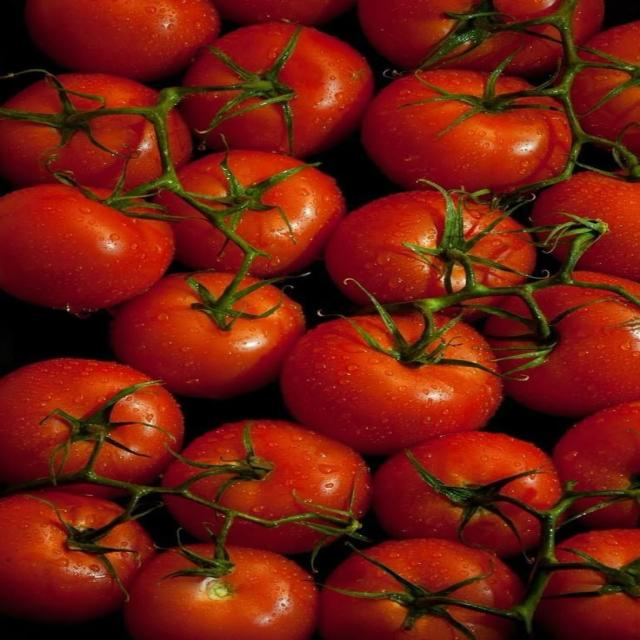tomato: (280, 315, 502, 455), (162, 420, 371, 554), (180, 22, 373, 157), (361, 69, 571, 193), (111, 271, 305, 398), (325, 190, 536, 305), (155, 150, 346, 277), (374, 431, 561, 557), (0, 358, 184, 485), (483, 271, 639, 417), (0, 183, 174, 313), (0, 490, 155, 624), (319, 538, 523, 639), (124, 543, 319, 639), (0, 73, 162, 188), (358, 0, 567, 77), (25, 0, 220, 81), (531, 171, 639, 280), (535, 529, 639, 639), (571, 21, 639, 153), (554, 401, 639, 492), (215, 0, 355, 26)
